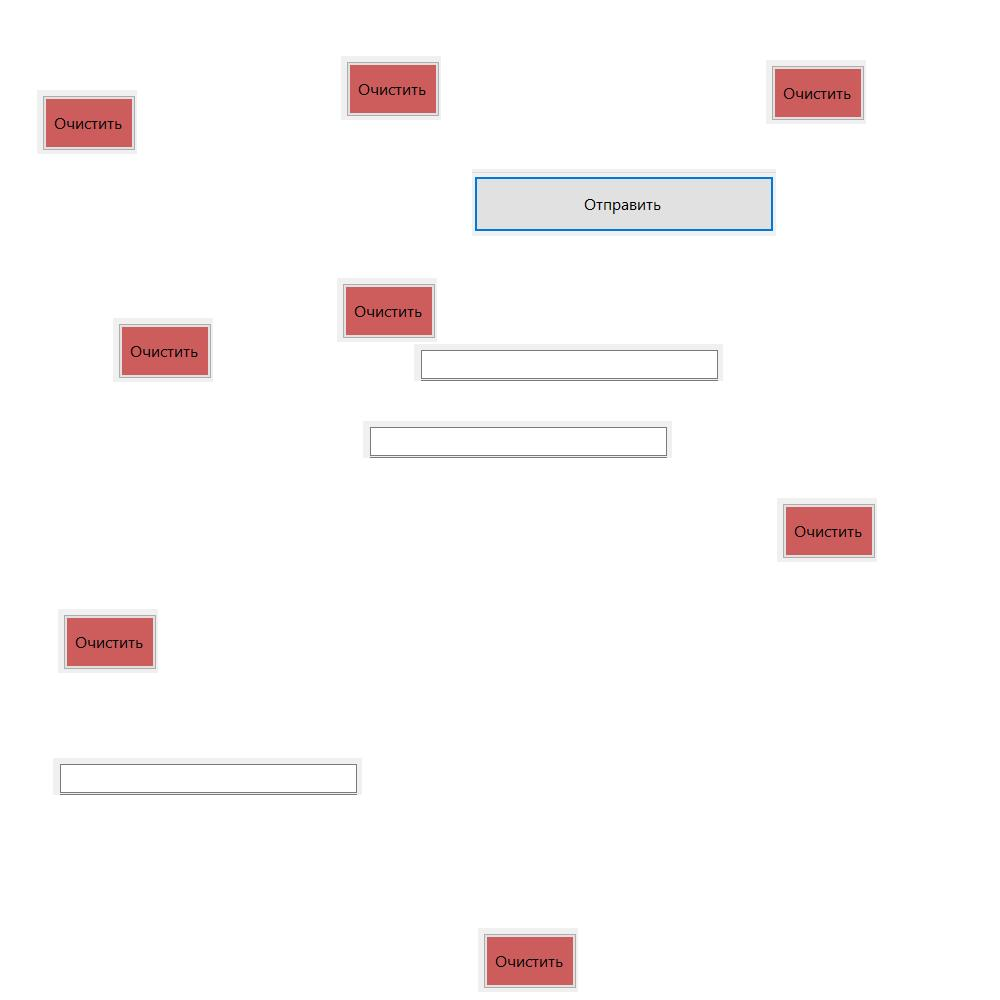Button: (472, 169, 776, 236), (341, 56, 441, 120), (777, 498, 877, 562), (478, 928, 578, 992), (337, 278, 437, 342), (766, 60, 866, 124), (58, 609, 158, 673), (113, 318, 213, 382), (37, 90, 137, 154)
EditText-: (414, 344, 723, 381), (53, 758, 362, 795), (363, 421, 672, 458)
